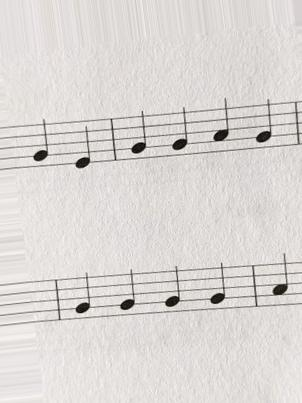A: (266, 247, 294, 316), (209, 94, 234, 155)
E: (70, 111, 94, 176)
G: (157, 261, 187, 322), (124, 107, 154, 163), (249, 97, 276, 156), (115, 263, 142, 322), (167, 101, 191, 164), (72, 269, 97, 329), (204, 263, 230, 316), (29, 117, 53, 171)
